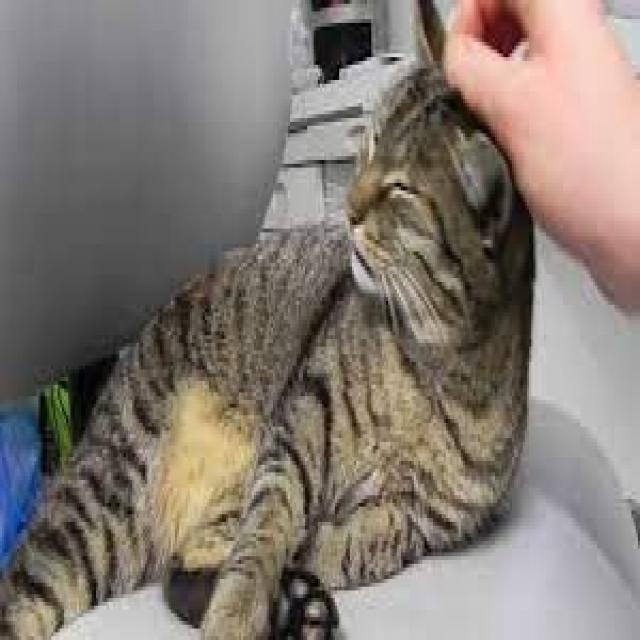Cat: (0, 0, 538, 640)
